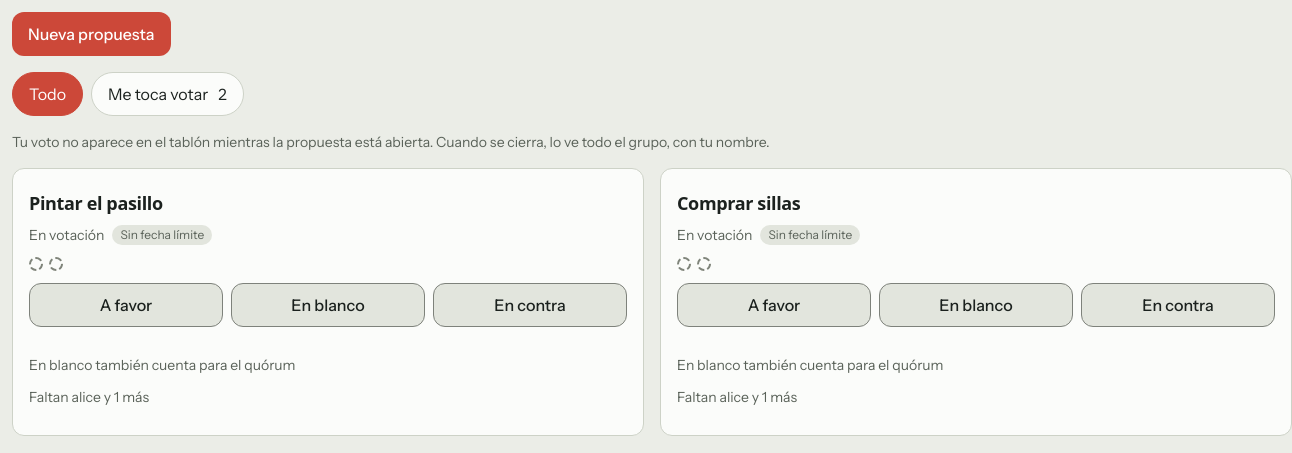
Test case: BoardPage, dos votos en el aire a la vez › cada confirmación vuelve a su tarjeta aunque la segunda adelante a la primera
Click the button "A favor" below "Pintar el pasillo" at x=126, y=305, box [29,283,223,327]
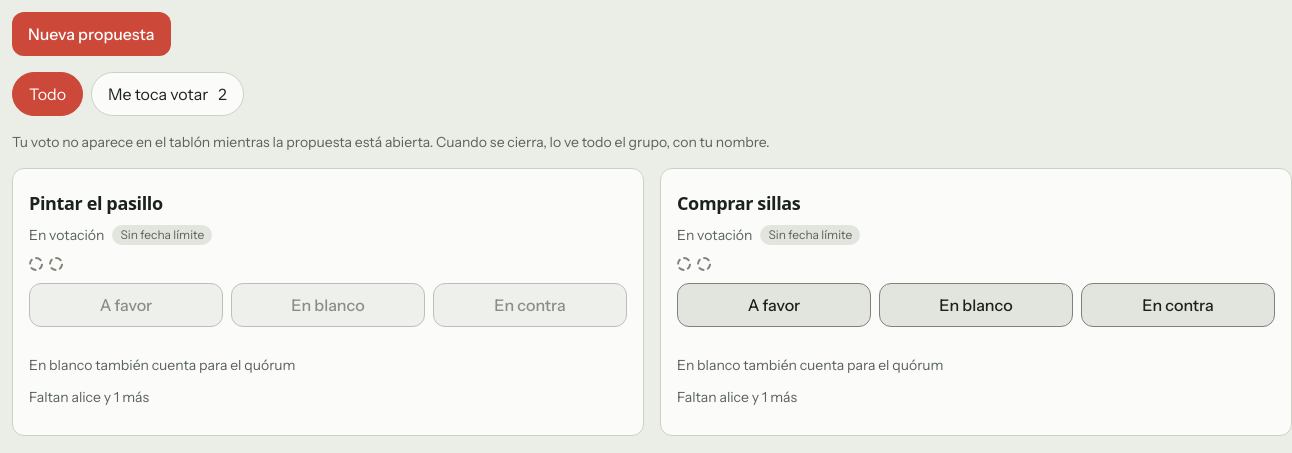
Click the 2nd button "En contra" at x=1178, y=305, box [1081,283,1275,327]
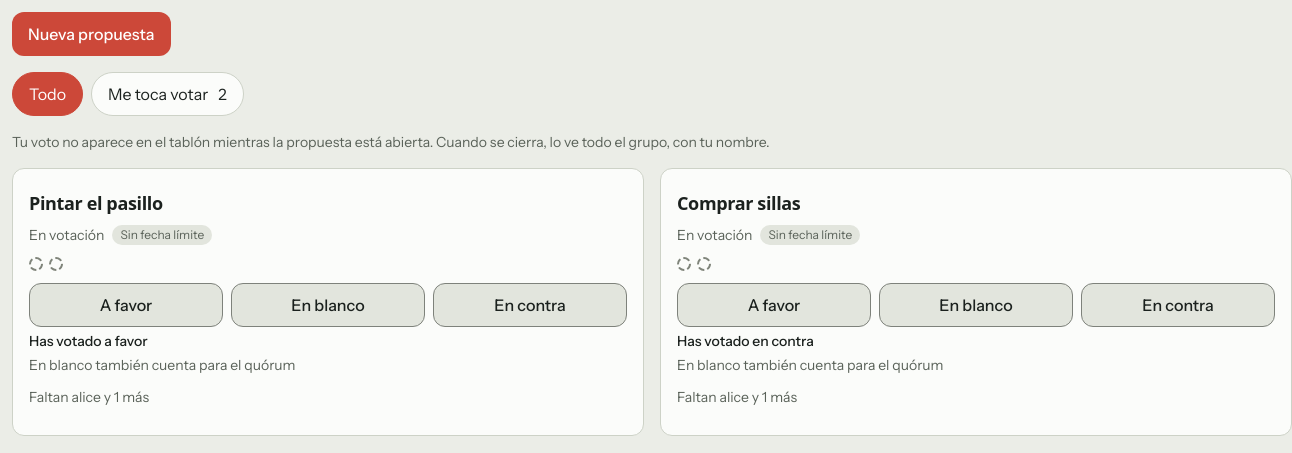
Now the message "Has votado a favor" is shown, box [29,332,148,350]
Now the message "Has votado en contra" is shown, box [677,332,814,350]
